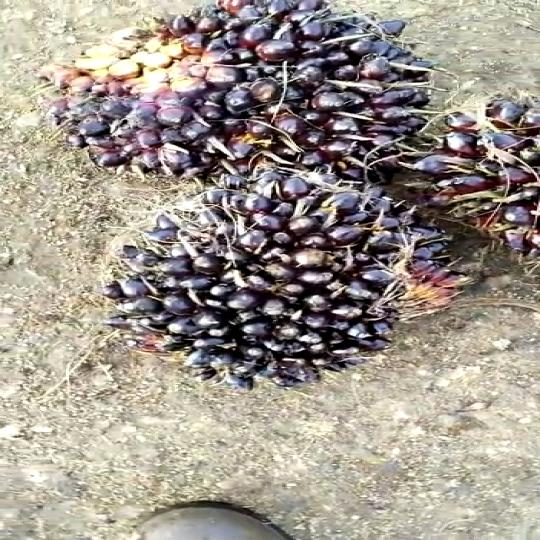mentah: (99, 173, 495, 409), (38, 0, 456, 190)
